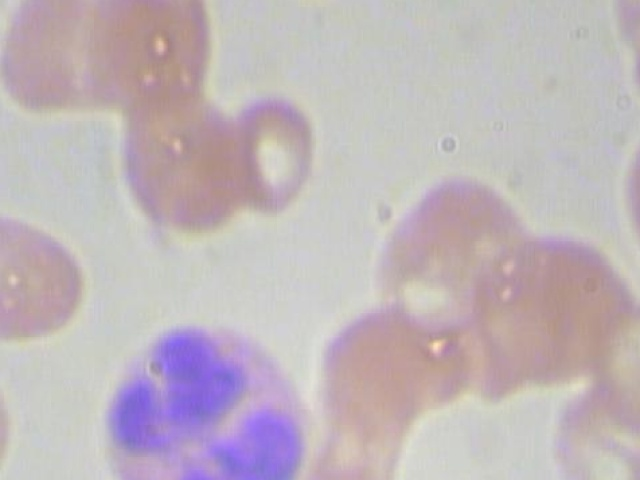RBC: (357, 164, 536, 361), (105, 82, 245, 241), (308, 305, 451, 434), (91, 0, 222, 106), (224, 89, 330, 219), (0, 210, 93, 348), (0, 0, 89, 109), (587, 298, 640, 438), (0, 354, 18, 480), (574, 477, 640, 480)
WBC: (68, 316, 333, 480)
